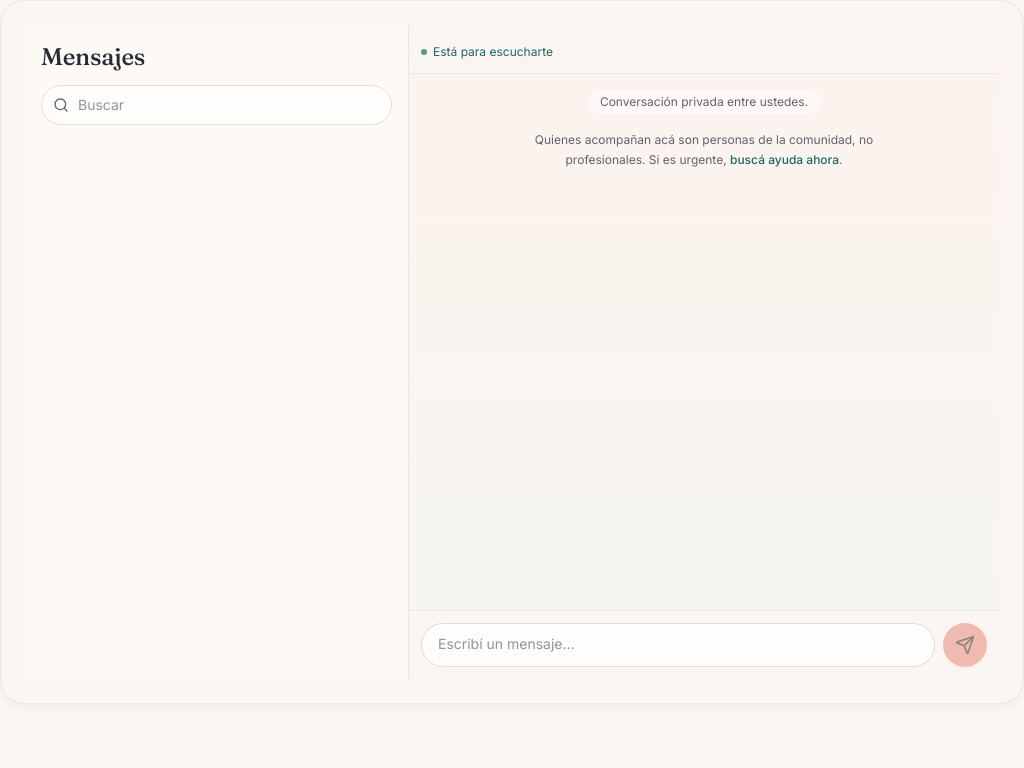
Test case: chat send failures › restores the draft with a generic failure
The width and height of the screenshot is (1024, 768).
Type "hola" into the text box with placeholder "Escribí un mensaje…" at (678, 645), box [421,623,935,667]
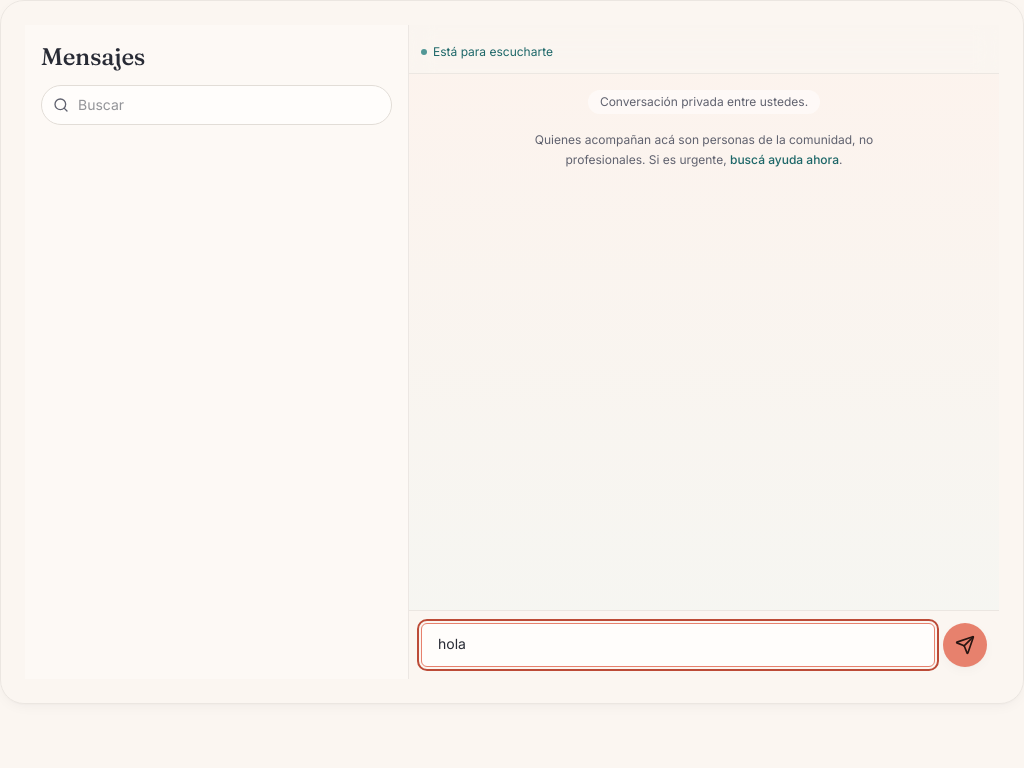
Click the button named "Enviar" at (965, 645), box [943,623,987,667]
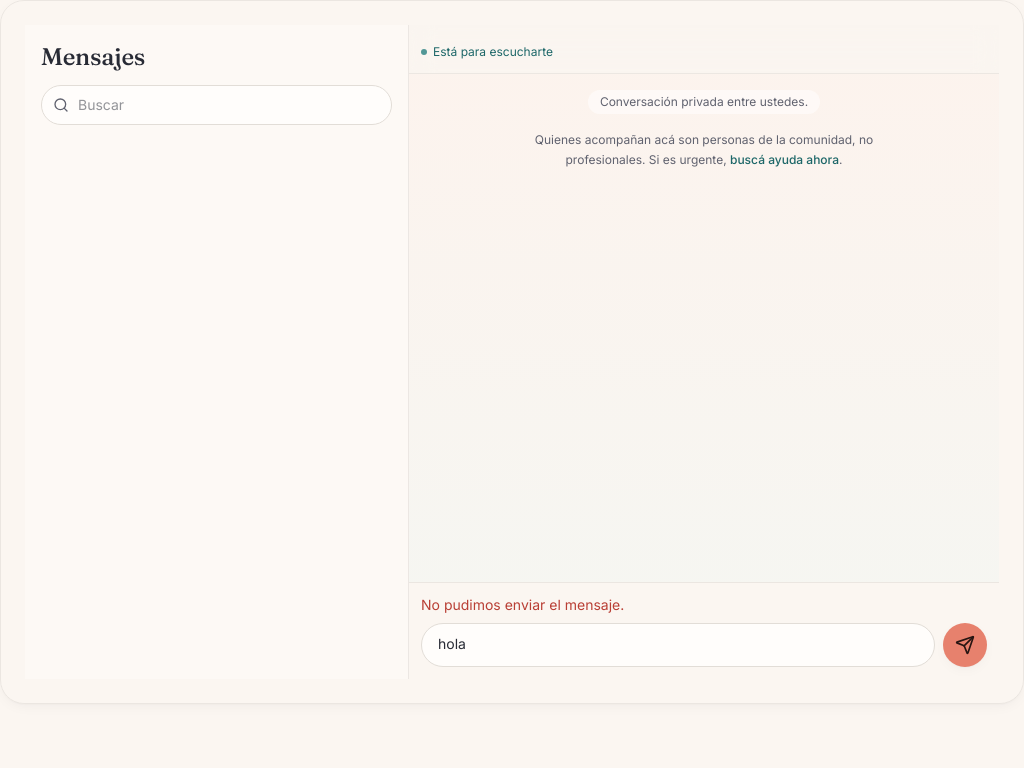
Expected: the message reads "No pudimos enviar el mensaje.", [421,596,624,613]
